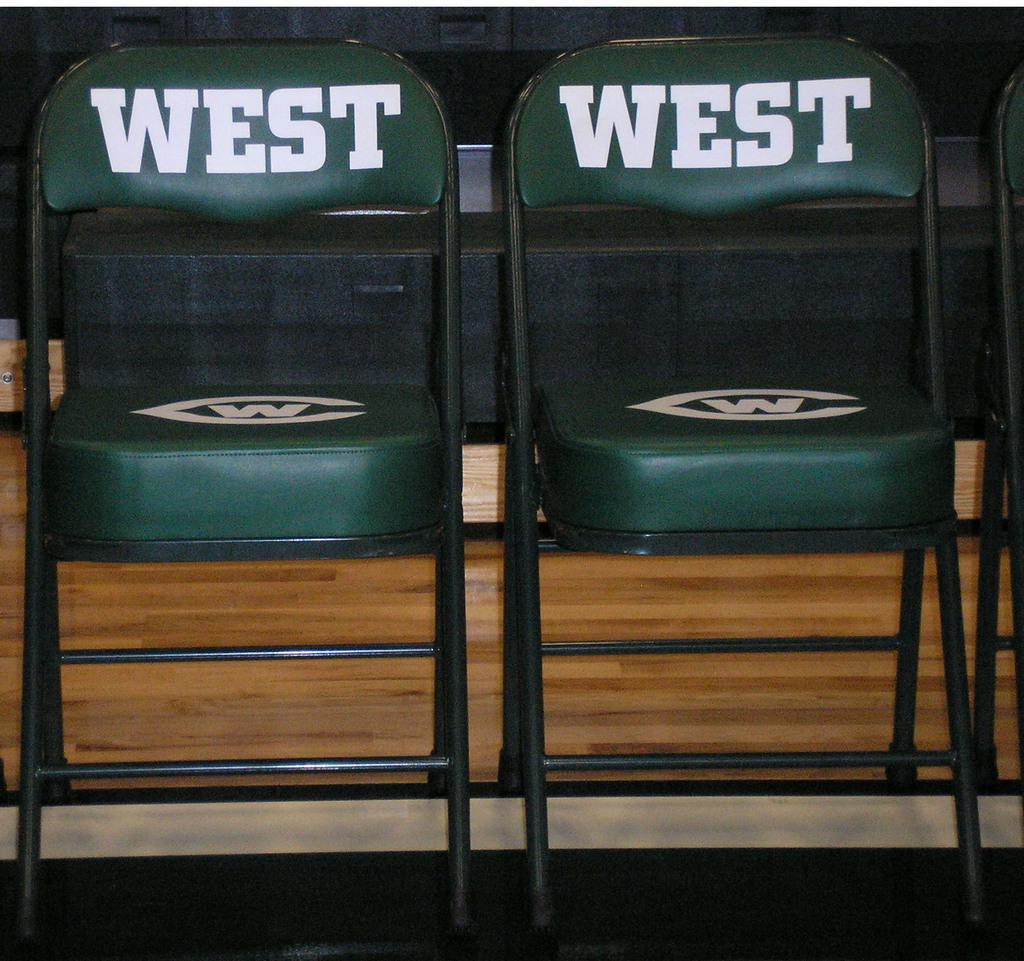Chair: (470, 43, 993, 857), (15, 36, 475, 939)
